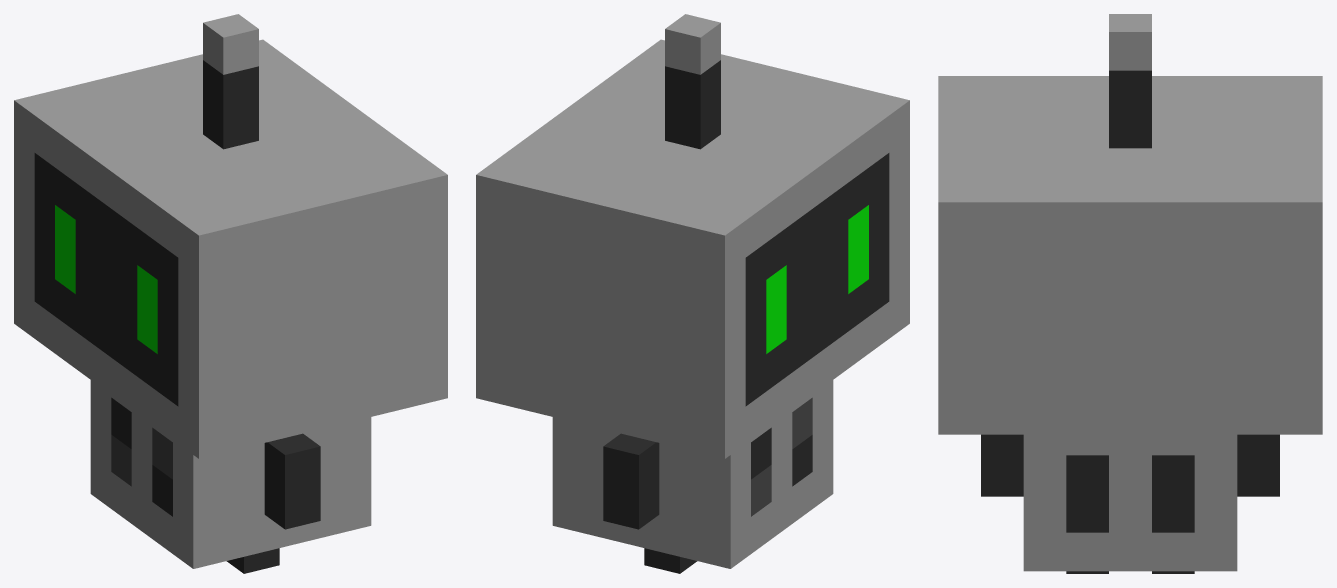
File: Robot.obj
3 views of the same model, side by side, from view 1: azimuth 30°, elevation 25°; view 2: azimuth 150°, elevation 25°; view 3: azimuth 270°, elevation 25° (orthographic). The views are drawn at different scales.
Size of the model in its own units: 7 by 14 by 9.
